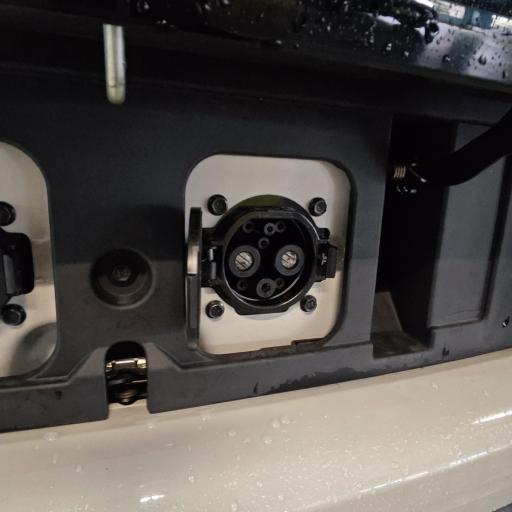DC_charging_port: (215, 204, 325, 316)
DC_hole: (229, 244, 261, 279), (275, 242, 306, 277)
PE: (256, 277, 278, 300)
